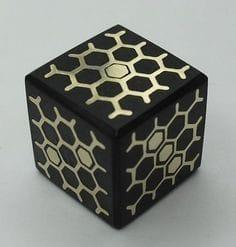cubos: (21, 21, 214, 234)
